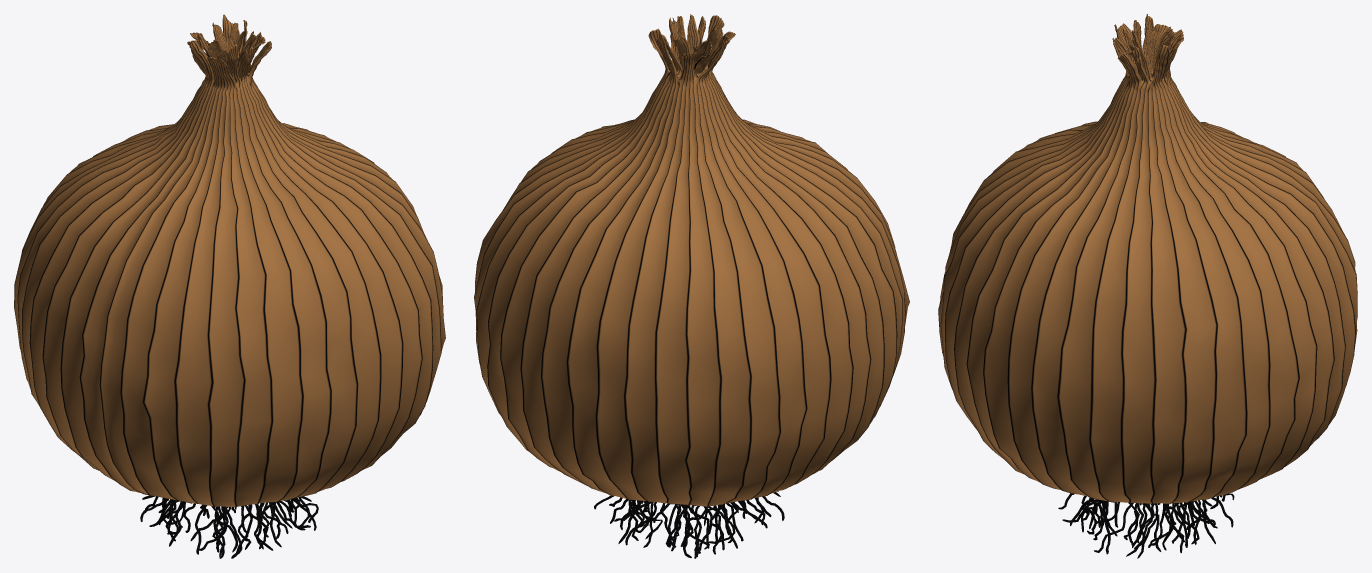
File: Onion.fbx
The picture shows the model from 3 angles, left to right: view 1: azimuth 30°, elevation 25°; view 2: azimuth 150°, elevation 25°; view 3: azimuth 270°, elevation 25°; orthographic projection.
Parts seen in each view (by area): view 1: Onion B; view 2: Onion B; view 3: Onion B.
Boxes of the visible parts, x1,y1,x2,y2 form: Onion B: [14, 14, 445, 558]; Onion B: [474, 14, 909, 558]; Onion B: [938, 14, 1357, 558].
Size of the model in its own units: 7.04 by 9.47 by 7.03.
